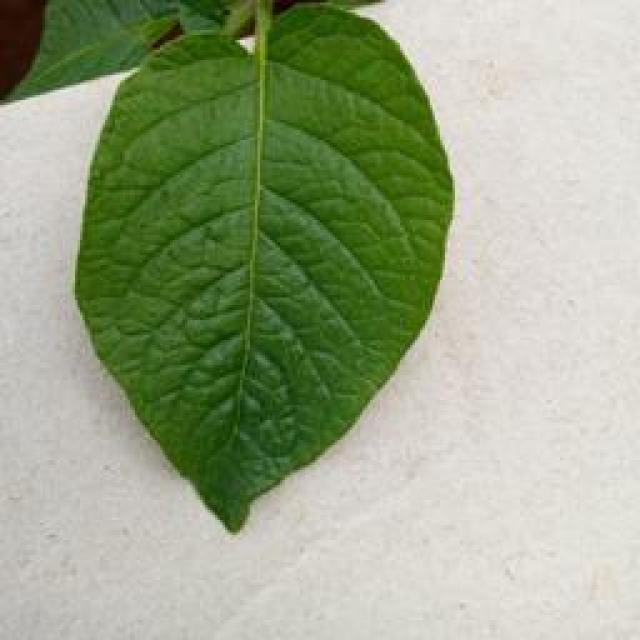healthy: (68, 0, 458, 538)
